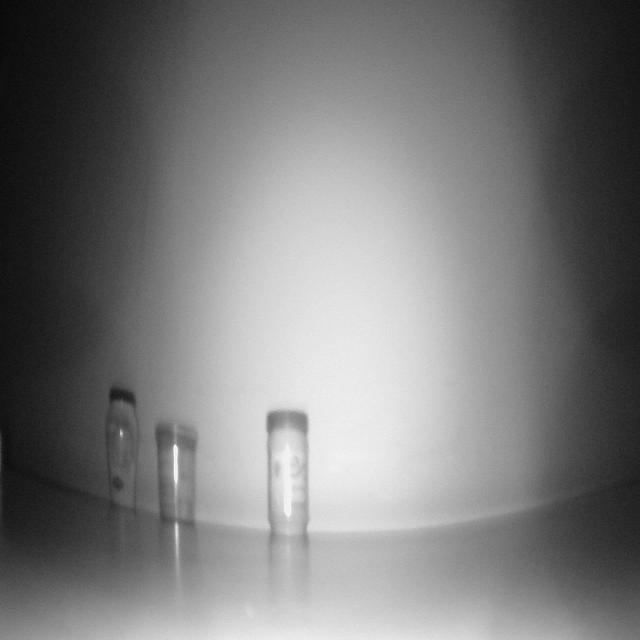targets: (268, 409, 308, 537), (106, 380, 140, 512), (158, 420, 198, 524)
